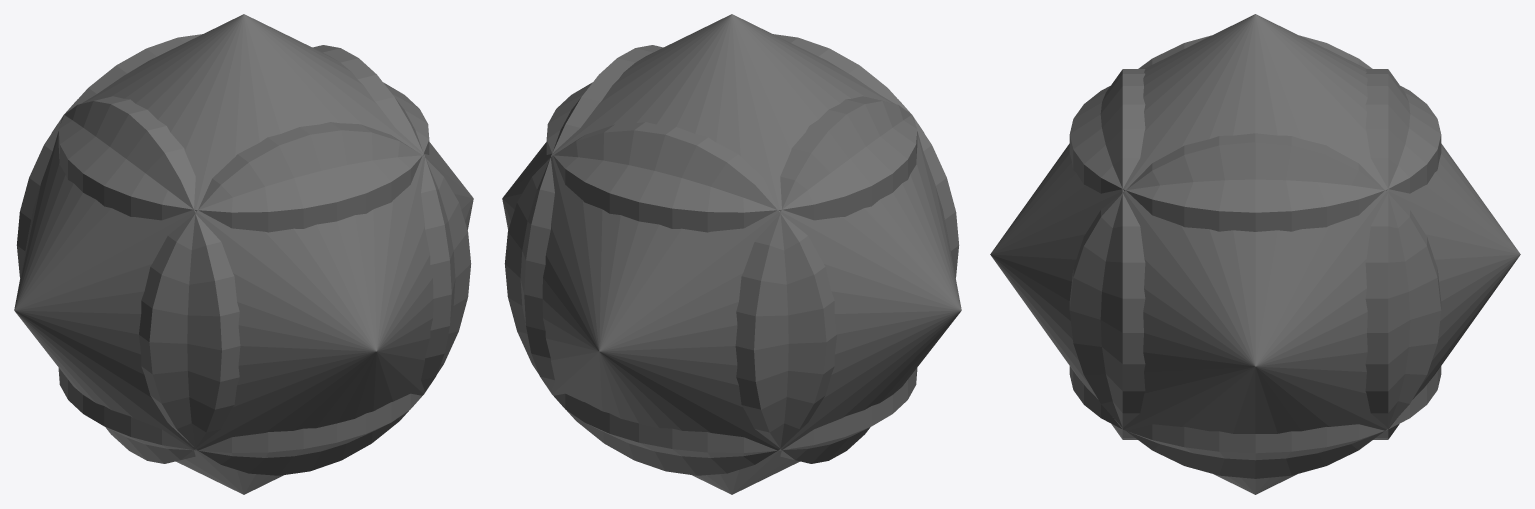
Rendered from needle.obj.
3 views of the same model, side by side, from view 1: azimuth 30°, elevation 25°; view 2: azimuth 150°, elevation 25°; view 3: azimuth 270°, elevation 25° (orthographic).
Visible parts, largest first — view 1: 円柱.005; view 2: 円柱.005; view 3: 円柱.005.
Boxes of the visible parts, x1,y1,x2,y2 form: 円柱.005: (14,14,473,494); 円柱.005: (502,14,961,494); 円柱.005: (990,14,1520,494).
Size of the model in its own units: 2 by 2 by 2.
